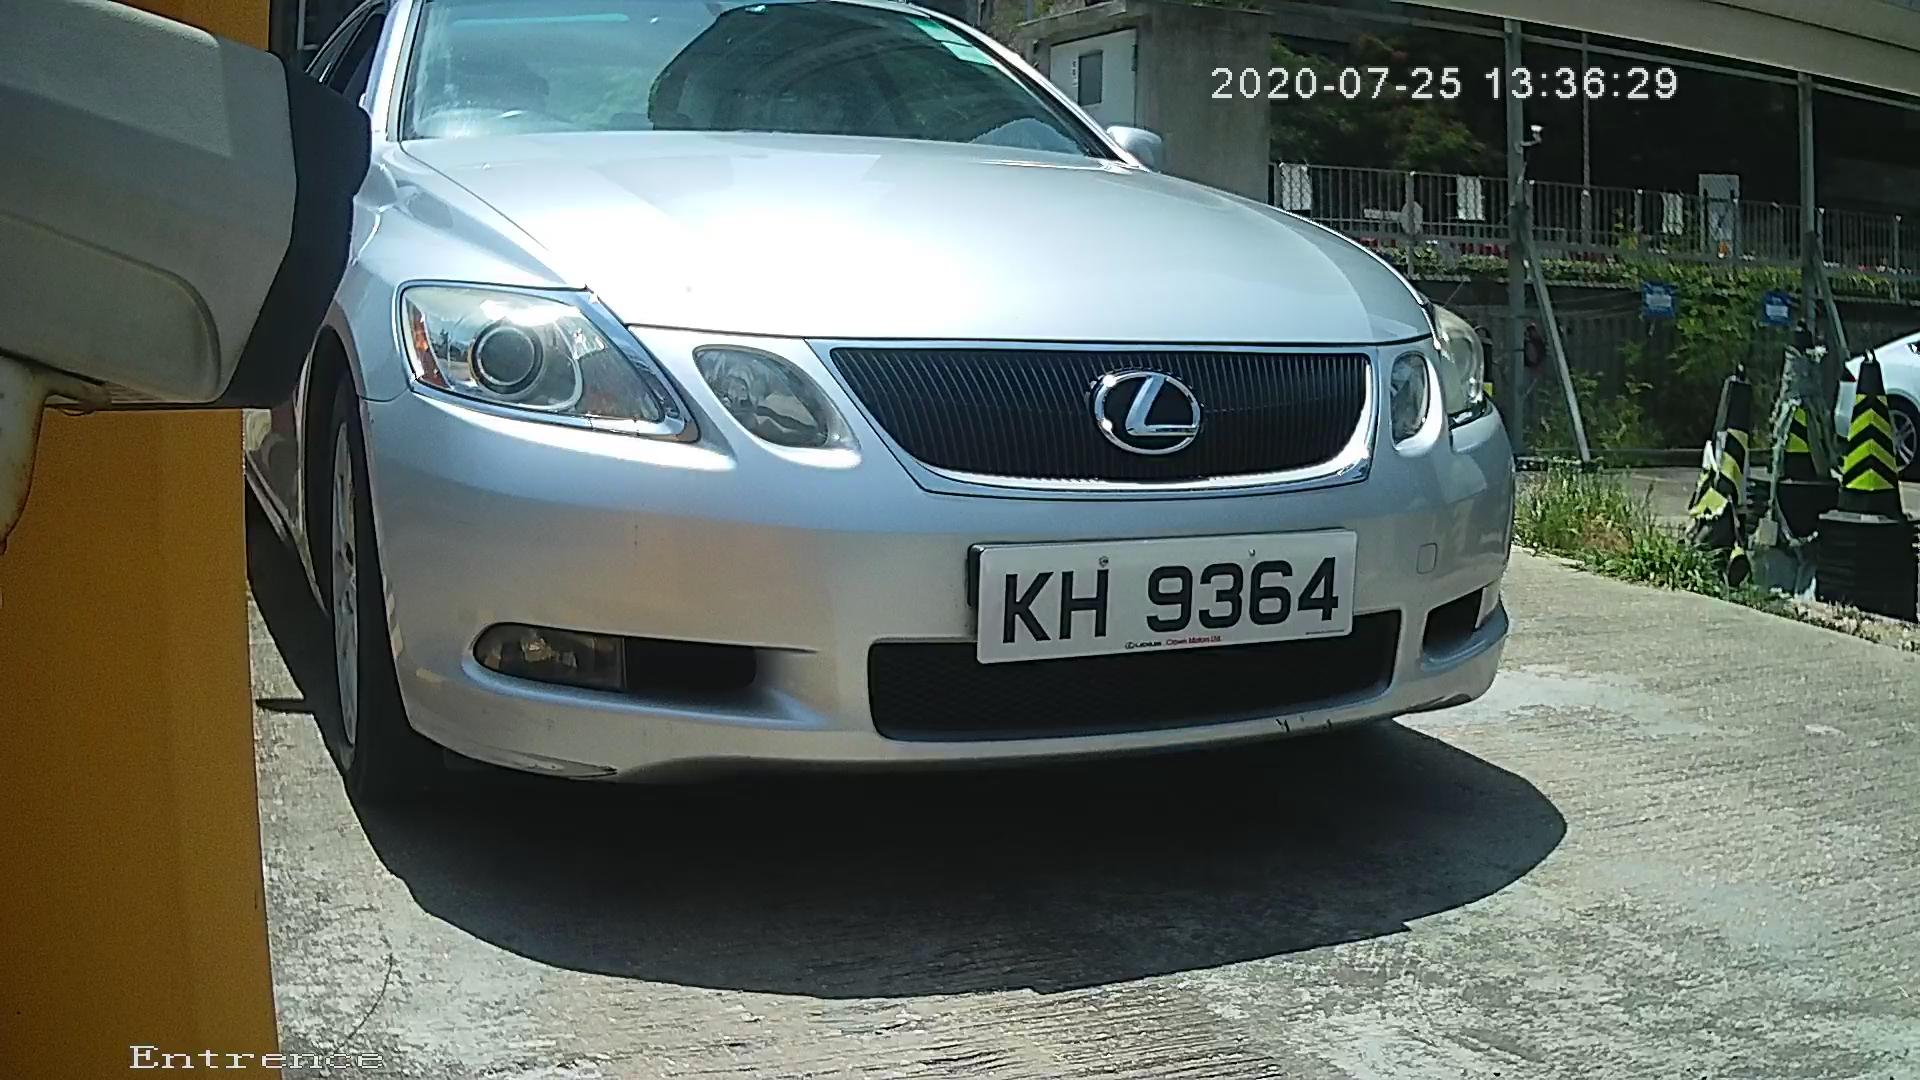License Plate: (943, 521, 1372, 671)
